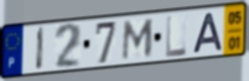2: (53, 22, 83, 71)
7: (94, 21, 119, 66)
A: (191, 12, 225, 55)
I: (34, 25, 46, 72)
L: (165, 13, 189, 60)
M: (120, 17, 156, 62)
